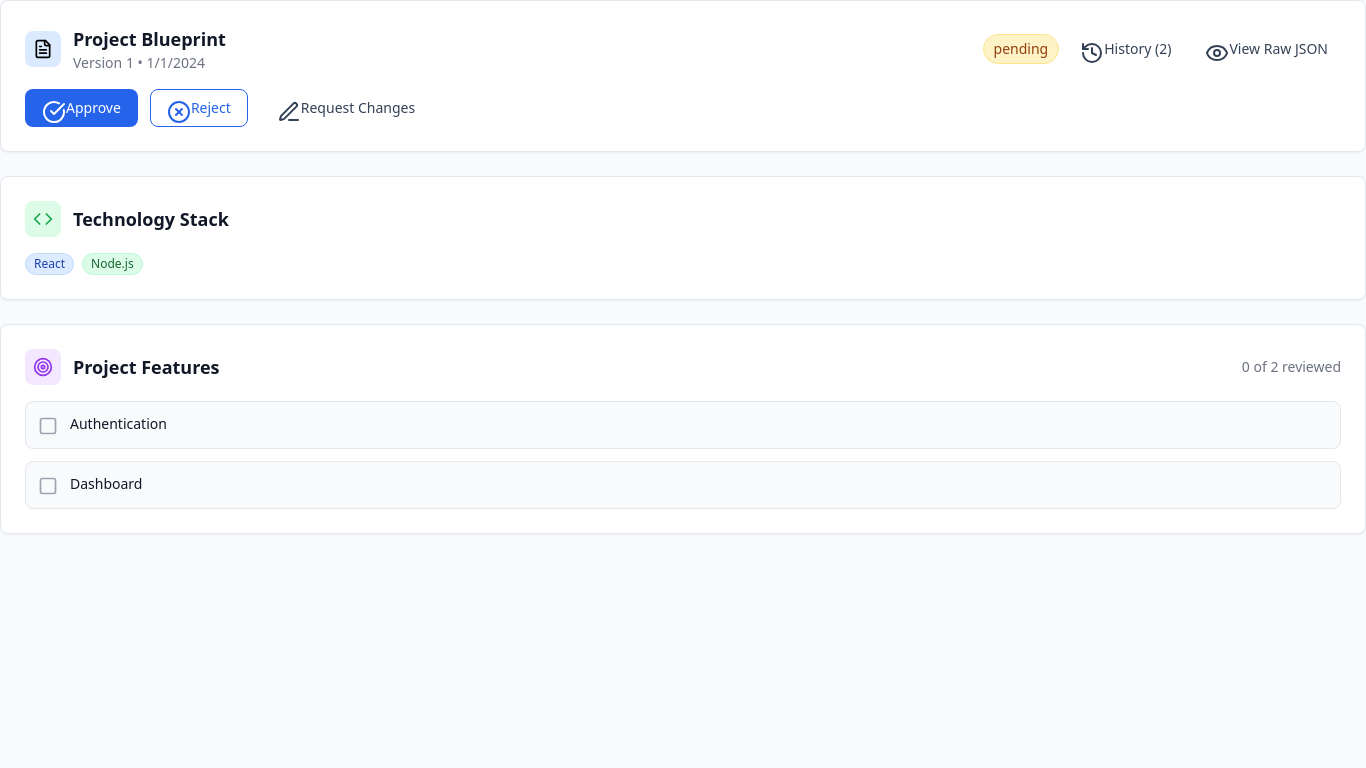
Test: AIResponseViewer › Version Management › shows version history when available
Click the button "History (2)": (1126, 49) x1=1067 y1=32 x2=1184 y2=66
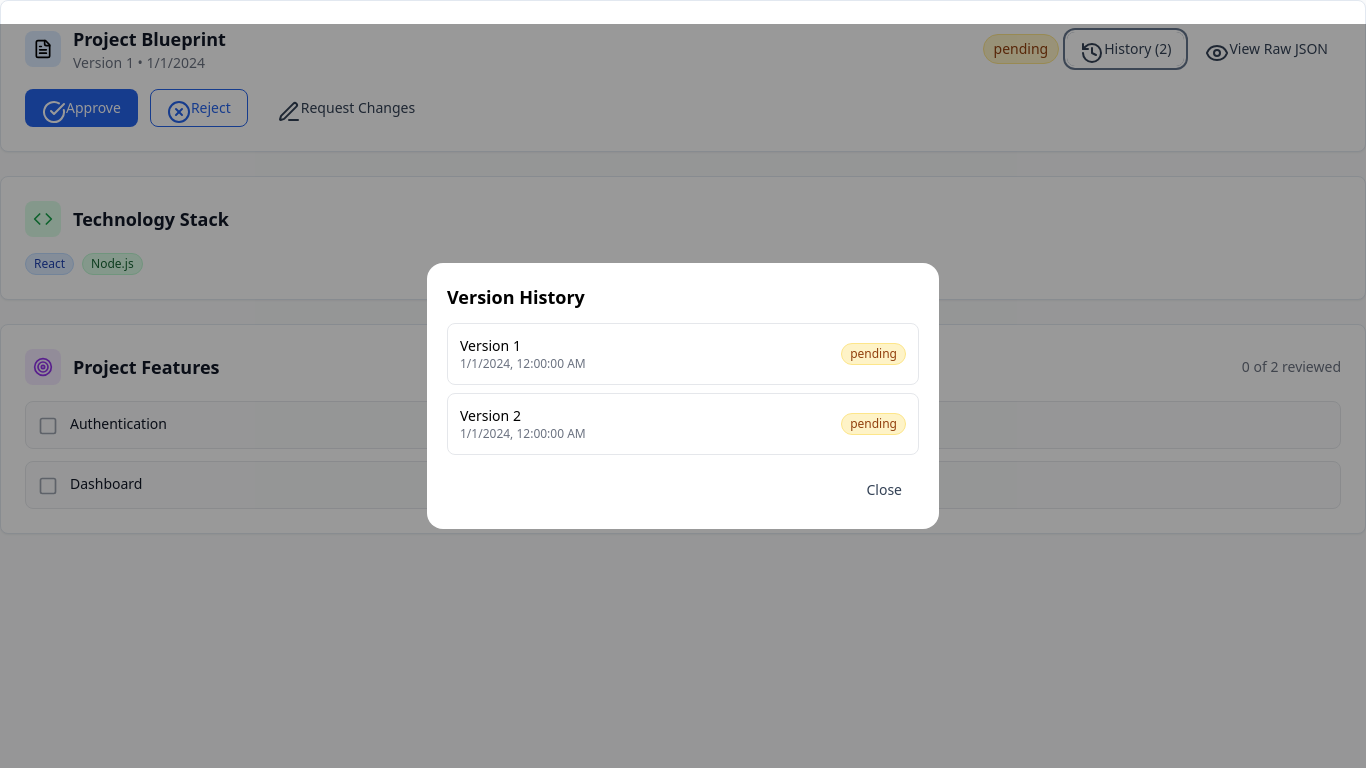
Expected: the heading "Version History" is shown, x1=447 y1=285 x2=585 y2=309
Expected: the text "Version 1" is shown, x1=460 y1=336 x2=521 y2=356
Expected: the text "Version 2" is shown, x1=460 y1=406 x2=521 y2=426
